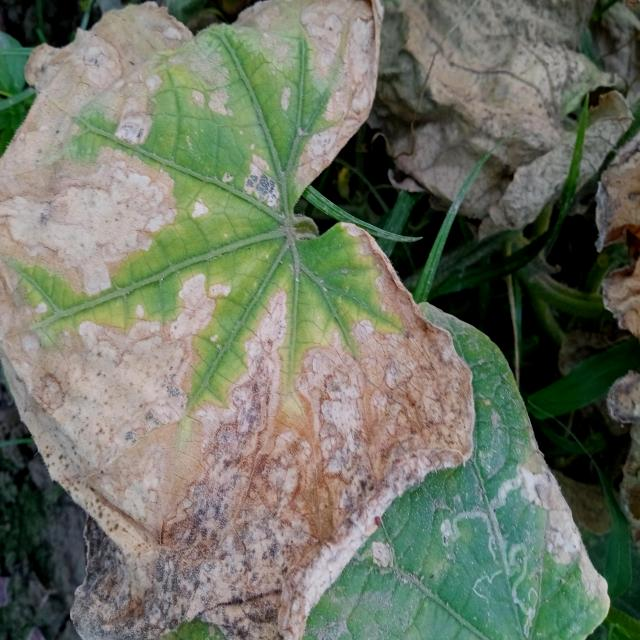cucumber_gummy: (0, 0, 477, 640), (287, 302, 619, 640), (338, 0, 640, 243), (577, 126, 640, 360)
